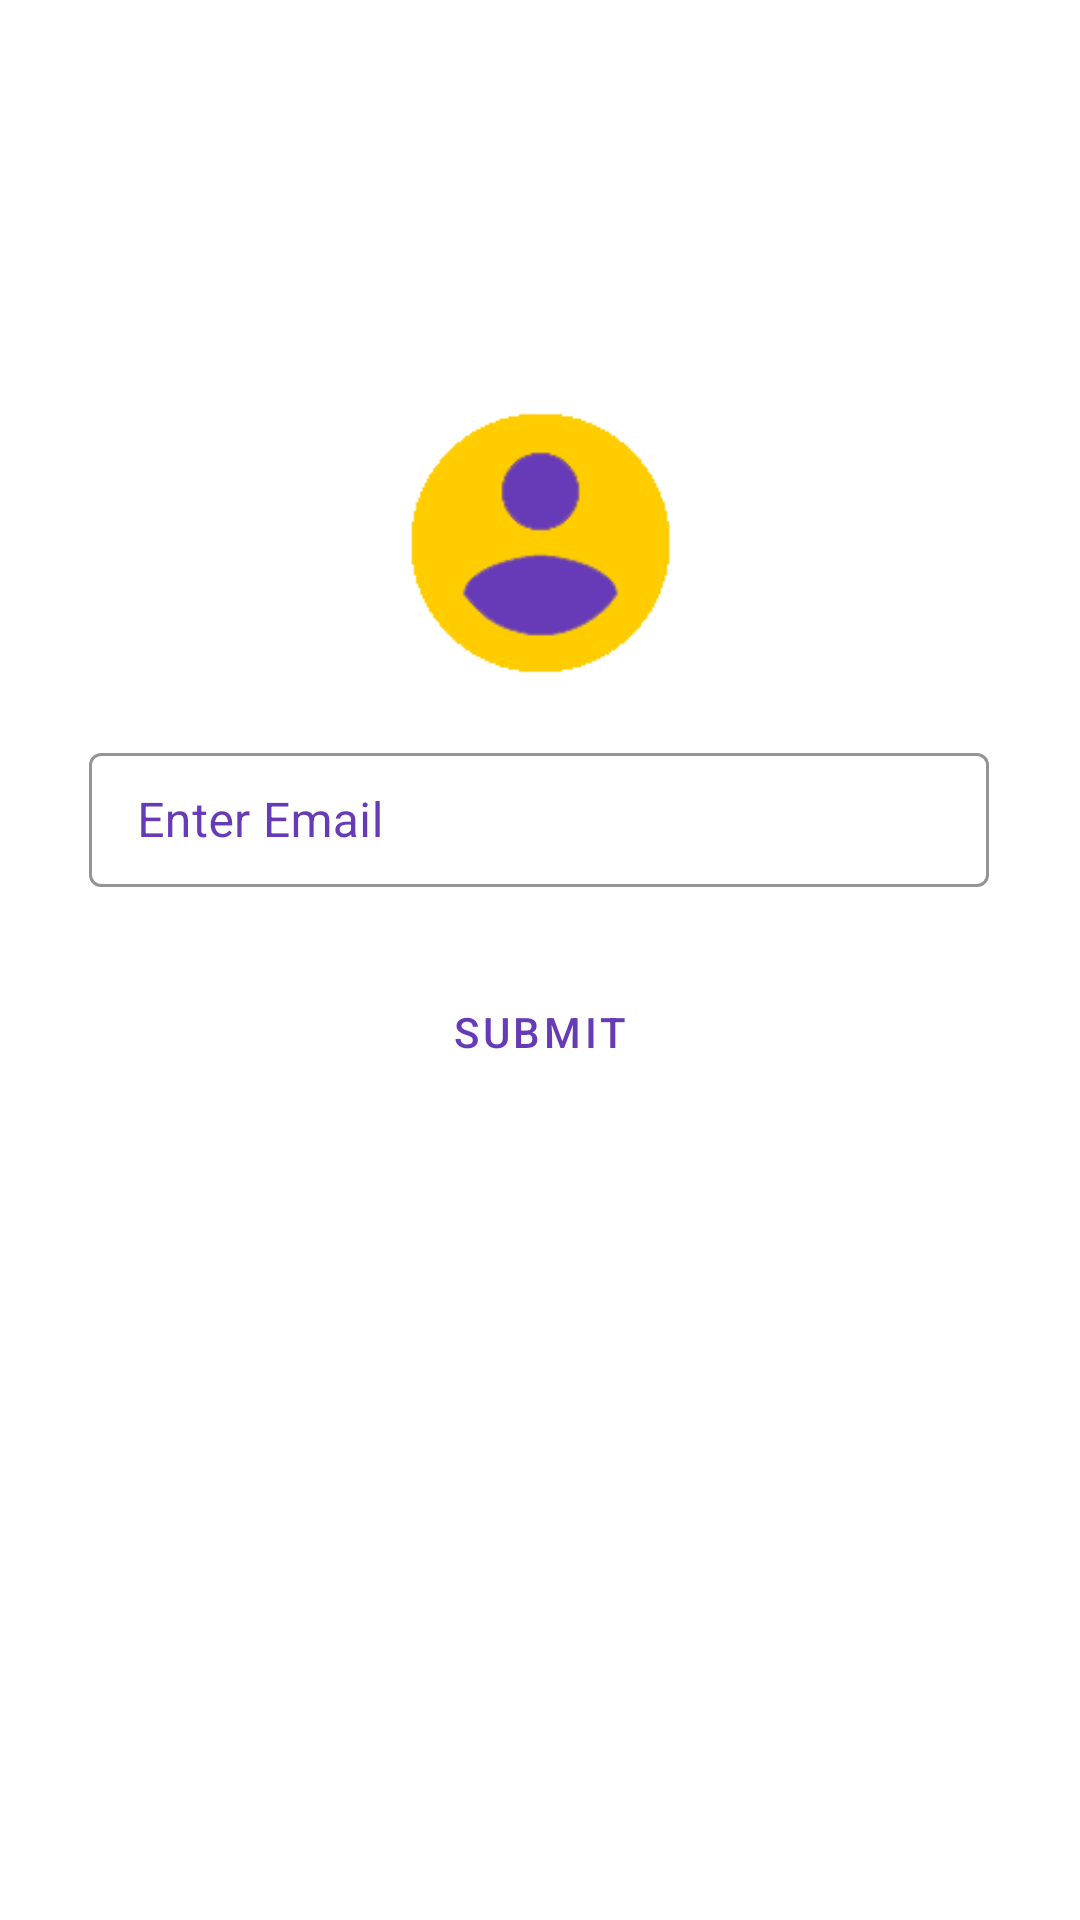

Screen size 1080x1920. Icon name, then its center in pixels as (x=x, y=y):
acount: (x=540, y=543)
